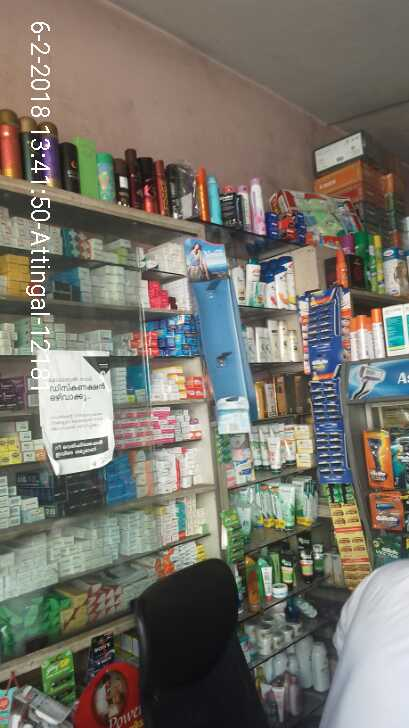beauty: (361, 432, 390, 489), (273, 252, 300, 313), (275, 318, 303, 363), (261, 272, 279, 311), (370, 497, 396, 522)
